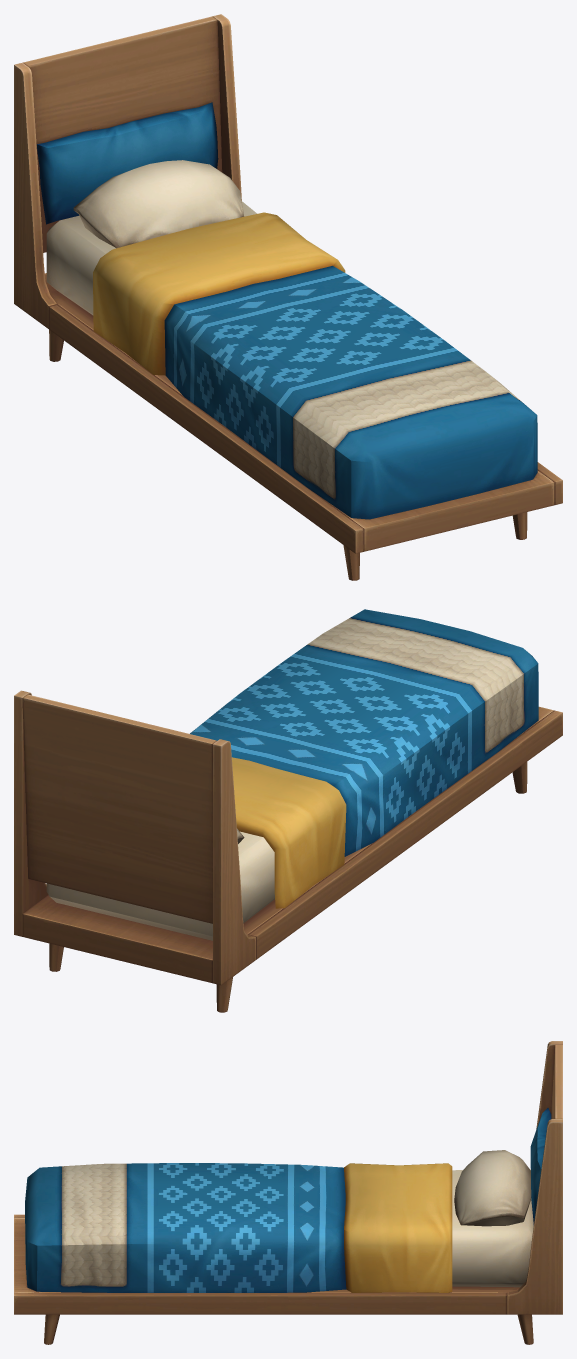
Rendered from Space-SavingSingle.fbx.
3 renders of one model, top to bottom at view 1: azimuth 30°, elevation 25°; view 2: azimuth 150°, elevation 25°; view 3: azimuth 270°, elevation 25°, orthographic. The views are drawn at different scales.
Parts seen in each view (by area): view 1: TinyLiving_Space-SavingSingle; view 2: TinyLiving_Space-SavingSingle; view 3: TinyLiving_Space-SavingSingle.
Part boxes in pixels (x1,y1,x2,y2): TinyLiving_Space-SavingSingle: [14, 14, 562, 580]; TinyLiving_Space-SavingSingle: [14, 609, 562, 1012]; TinyLiving_Space-SavingSingle: [14, 1041, 562, 1344].
Bounding box in the file's own units: 85 × 111 × 243.
